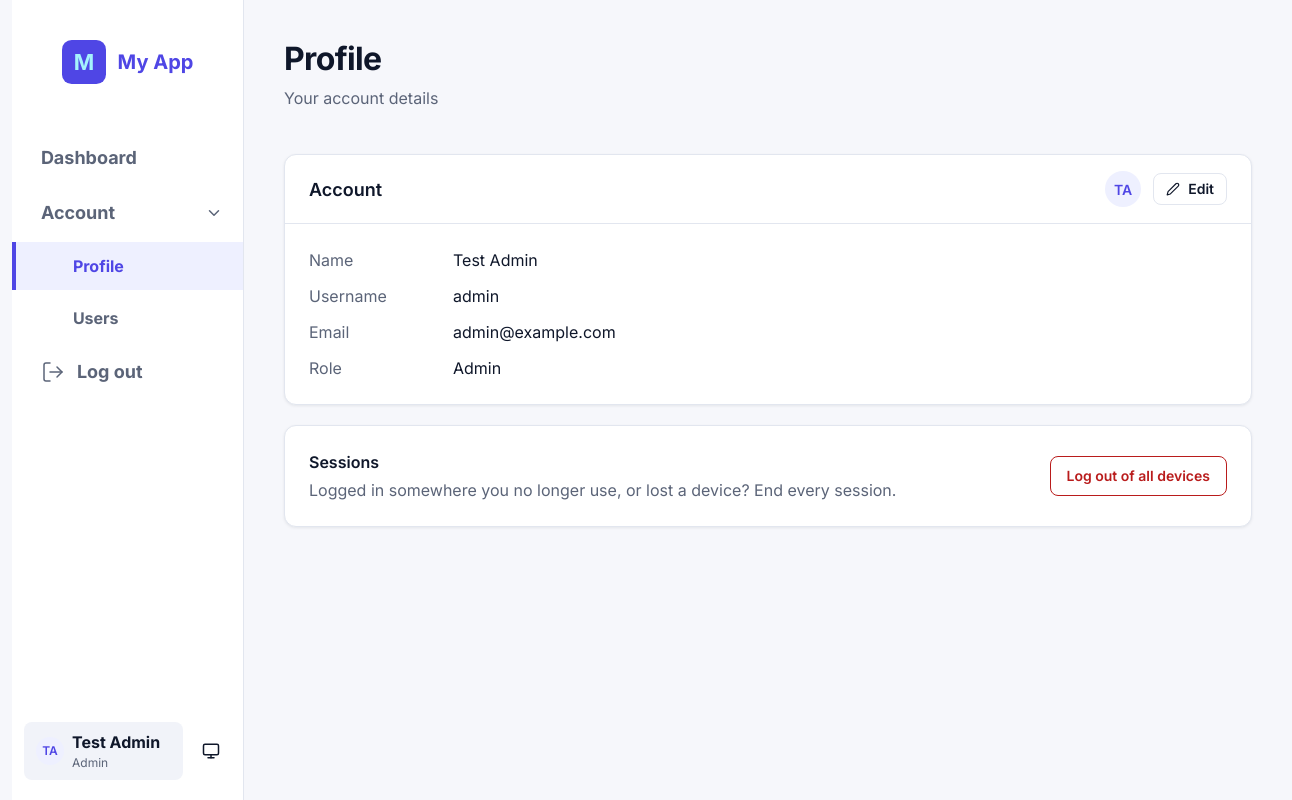
Scenario: sidebar with menu groups › folding the group of the current page keeps the group marked, so the current place stays visible
expect the heading "Profile" is shown: met, box [284, 39, 382, 78]
Click the button "Account": [128, 212] box [12, 187, 243, 238]
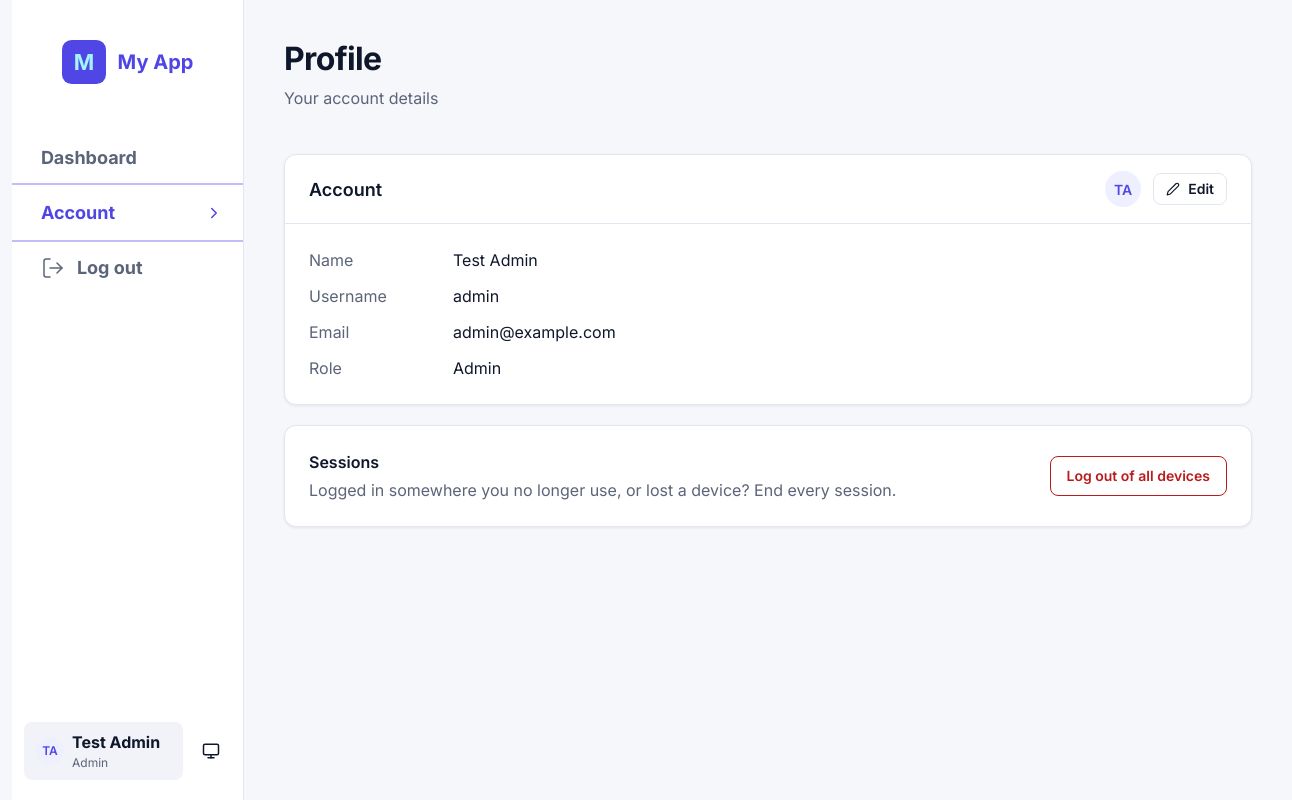
expect the button "Account" is collapsed: met, box [12, 187, 243, 238]
